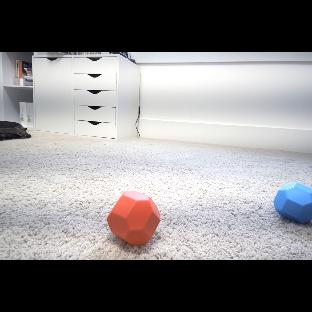V5_BLUE: (274, 183, 312, 224)
V5_RED: (108, 192, 160, 245)
